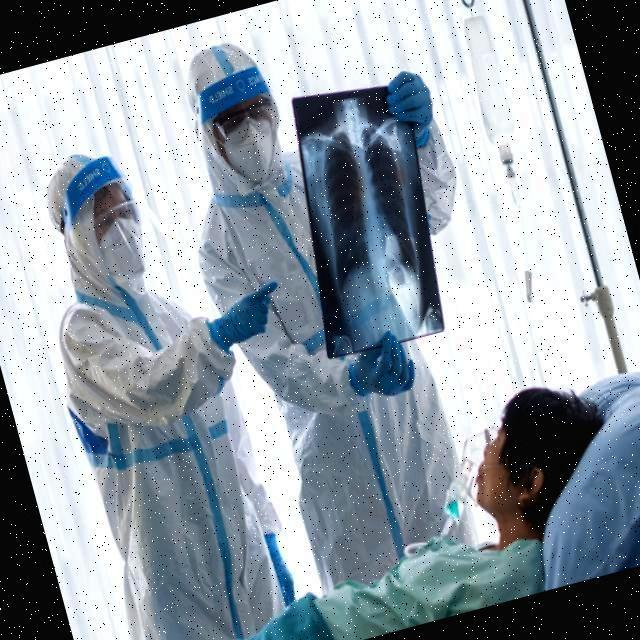apron: (342, 338, 428, 410), (209, 270, 281, 350), (366, 68, 438, 140), (263, 510, 295, 600)
gloves: (37, 156, 121, 206), (192, 34, 266, 86)
mask: (233, 118, 277, 186), (102, 222, 141, 288)
no_gloves: (507, 380, 597, 460)
no_hairnet: (456, 440, 516, 502)
